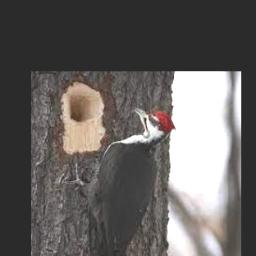Woodpecker: (66, 107, 176, 256)
